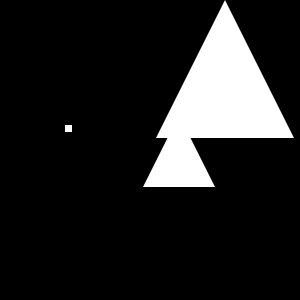circle: (65, 125, 72, 132)
triangle: (156, 0, 294, 138), (143, 115, 215, 187)
